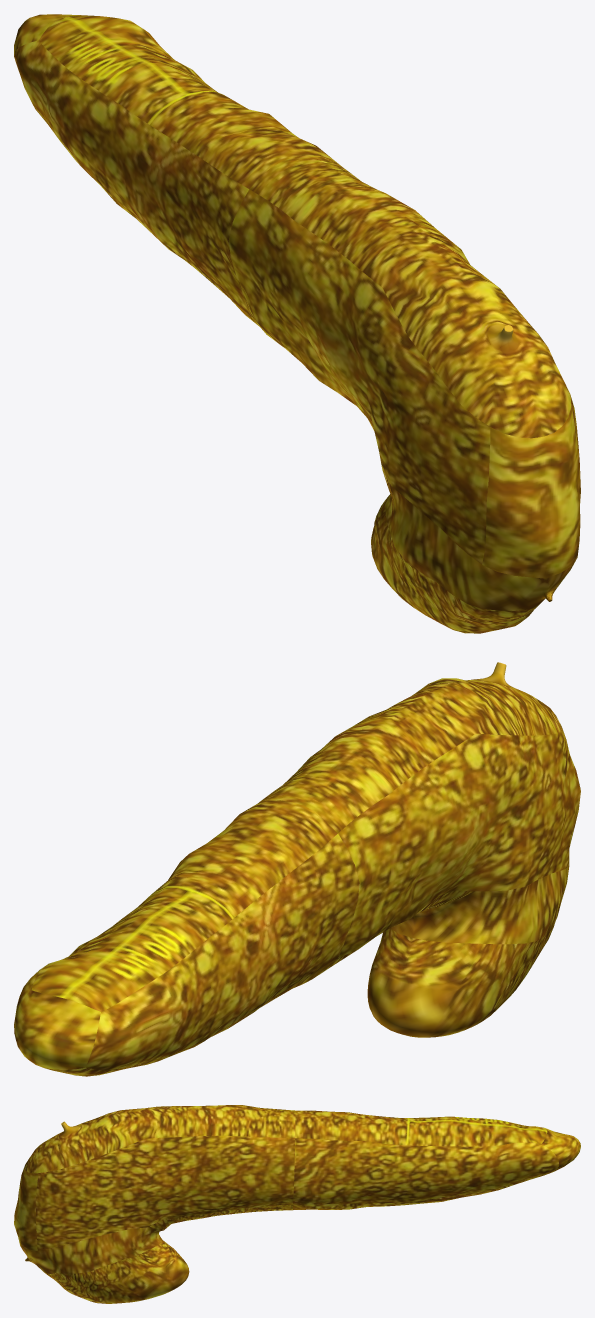
The model's file is pancreas.FBX.
3 renders of one model, top to bottom at view 1: azimuth 30°, elevation 25°; view 2: azimuth 150°, elevation 25°; view 3: azimuth 270°, elevation 25°, orthographic. The views are drawn at different scales.
Visible parts, largest first — view 1: Box001; view 2: Box001; view 3: Box001.
Boxes of the visible parts, left/top/right/bottom form: Box001: left=14, top=14, right=580, bottom=633; Box001: left=14, top=662, right=580, bottom=1076; Box001: left=14, top=1105, right=580, bottom=1303.
Size of the model in its own units: 12.36 by 28.66 by 76.68.
Materials: 1 (1 with a texture image).
